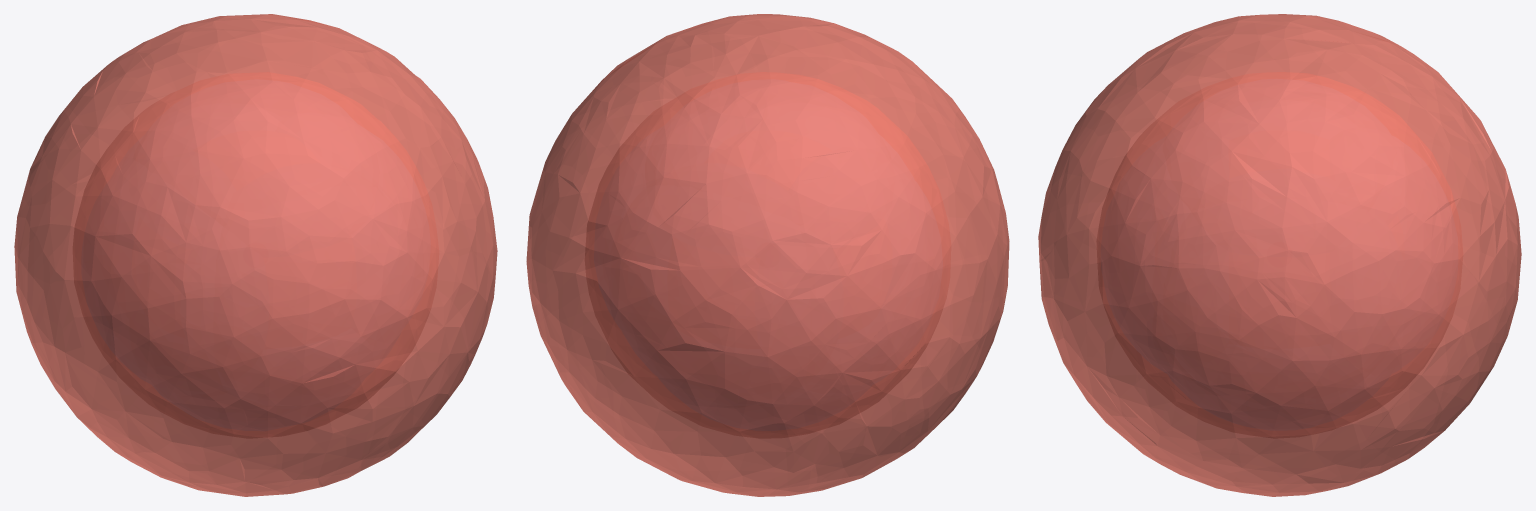
Rendered from orbital.glb.
3 views of the same model, side by side, from view 1: azimuth 30°, elevation 25°; view 2: azimuth 150°, elevation 25°; view 3: azimuth 270°, elevation 25° (orthographic).
Parts seen in each view (by area): view 1: Ca_n4_s_ml0_node, Ca_n3_s_ml0_node; view 2: Ca_n4_s_ml0_node, Ca_n3_s_ml0_node; view 3: Ca_n4_s_ml0_node, Ca_n3_s_ml0_node.
Boxes of the visible parts, x1,y1,x2,y2 form: Ca_n4_s_ml0_node: (14, 14, 497, 496); Ca_n3_s_ml0_node: (73, 72, 438, 438); Ca_n4_s_ml0_node: (526, 14, 1009, 496); Ca_n3_s_ml0_node: (585, 72, 950, 438); Ca_n4_s_ml0_node: (1038, 14, 1521, 496); Ca_n3_s_ml0_node: (1096, 72, 1462, 438).
Size of the model in its own units: 2.06 by 2.07 by 2.06.
